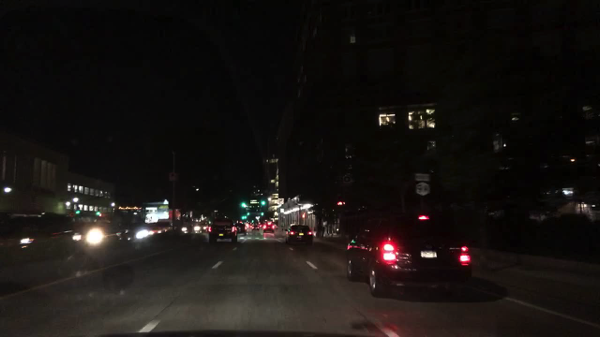car: (346, 211, 471, 298), (1, 213, 74, 252), (73, 219, 130, 251), (208, 219, 237, 242), (286, 225, 313, 246), (136, 223, 162, 239), (178, 222, 202, 236), (156, 217, 178, 232), (416, 183, 430, 196), (235, 223, 248, 237), (261, 221, 275, 232), (200, 220, 209, 232), (251, 225, 260, 232), (246, 224, 251, 229)
traffic light: (75, 210, 81, 215), (241, 203, 246, 208), (96, 212, 101, 216), (261, 201, 265, 206), (302, 213, 306, 218)
traffic sign: (414, 173, 430, 181)
